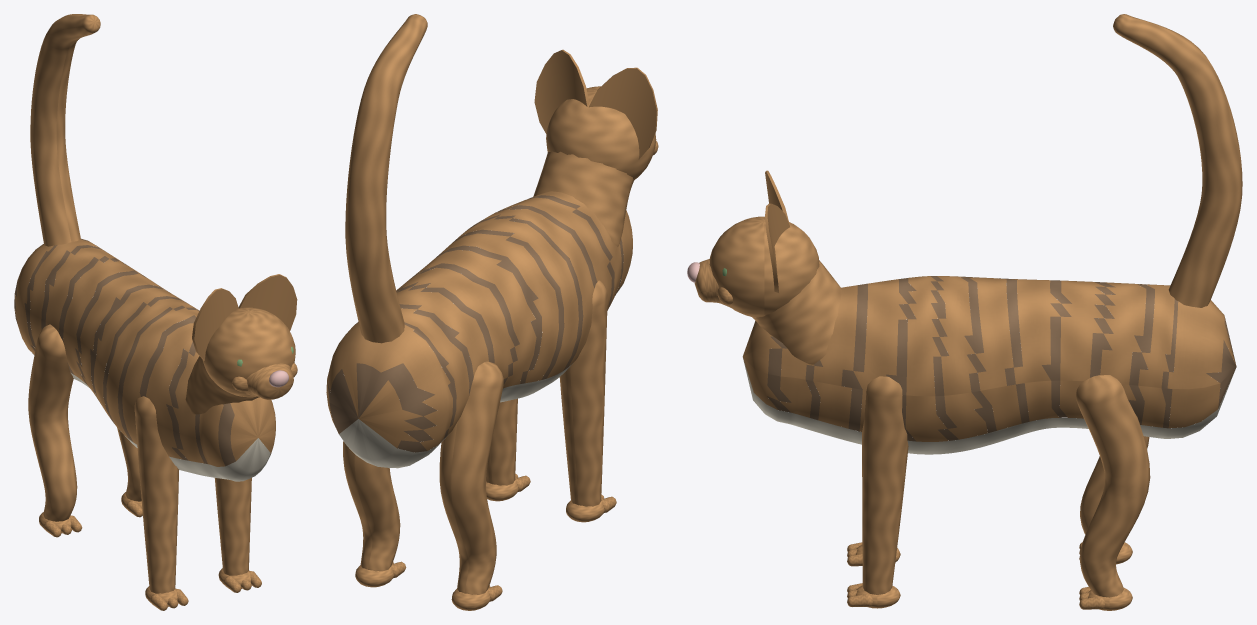
Rendered from pets-and-companions-hd-domestic-shorthair-ginger-798107cd__28155.glb.
3 renders of one model, left to right at view 1: azimuth 30°, elevation 25°; view 2: azimuth 150°, elevation 25°; view 3: azimuth 270°, elevation 25°, orthographic. The views are drawn at different scales.
Visible parts, largest first — view 1: domestic-shorthair-ginger; view 2: domestic-shorthair-ginger; view 3: domestic-shorthair-ginger.
Boxes of the visible parts, left/top/right/bottom form: domestic-shorthair-ginger: left=14, top=14, right=297, bottom=610; domestic-shorthair-ginger: left=326, top=14, right=658, bottom=610; domestic-shorthair-ginger: left=687, top=14, right=1242, bottom=610.
Bounding box in the file's own units: 0.1277 × 0.4983 × 0.4395.
Materials: 6 (3 with a texture image).
